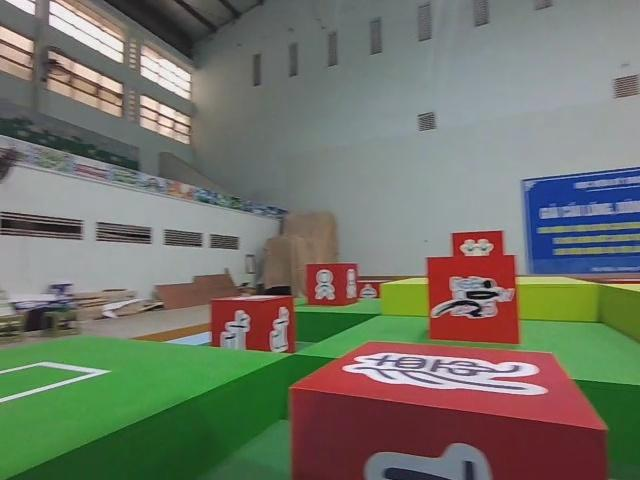R1: (423, 252, 521, 346)
R2 Fake: (286, 338, 610, 480)
R2 Real: (208, 290, 297, 359), (303, 260, 361, 307)
